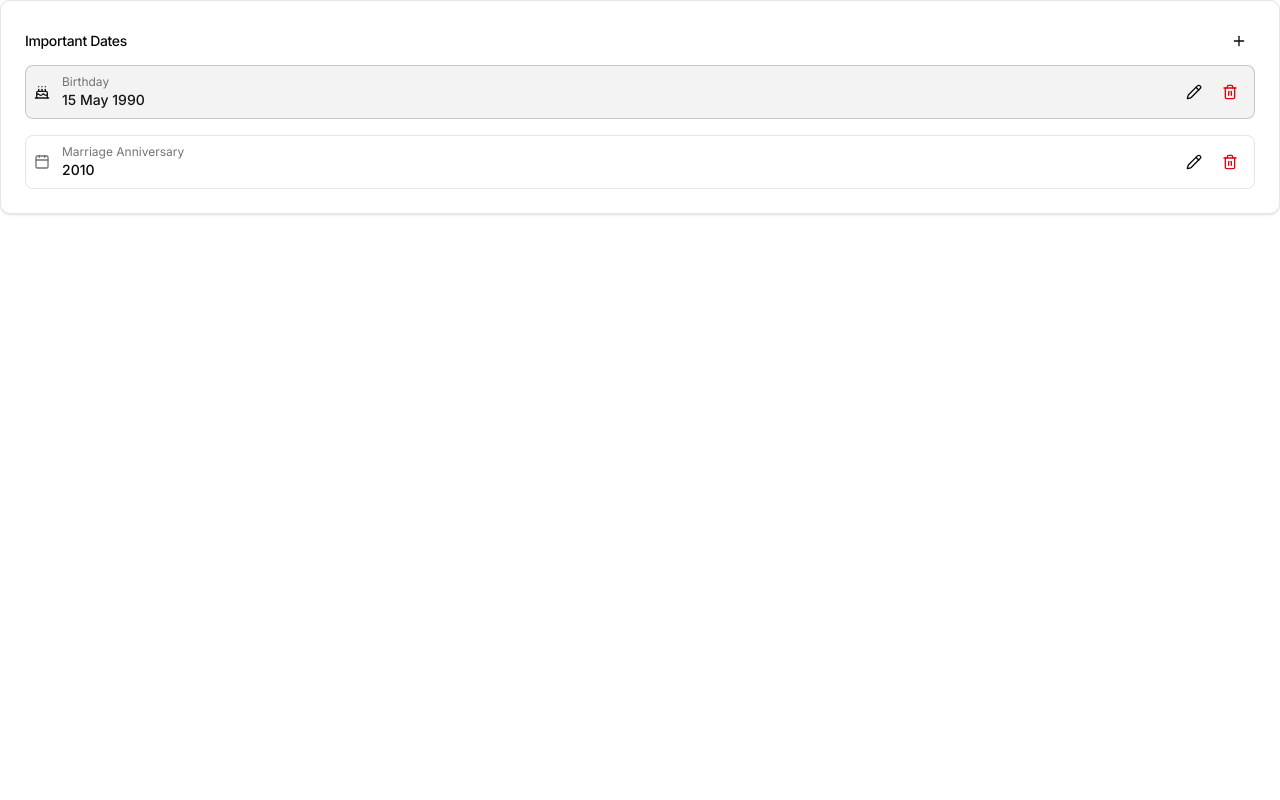
ImportantDatesList › closes the delete confirmation when the delete is refused as a conflict
Click the button named "Delete birthday".
click(1230, 92)  # box left=1214, top=76, right=1246, bottom=108
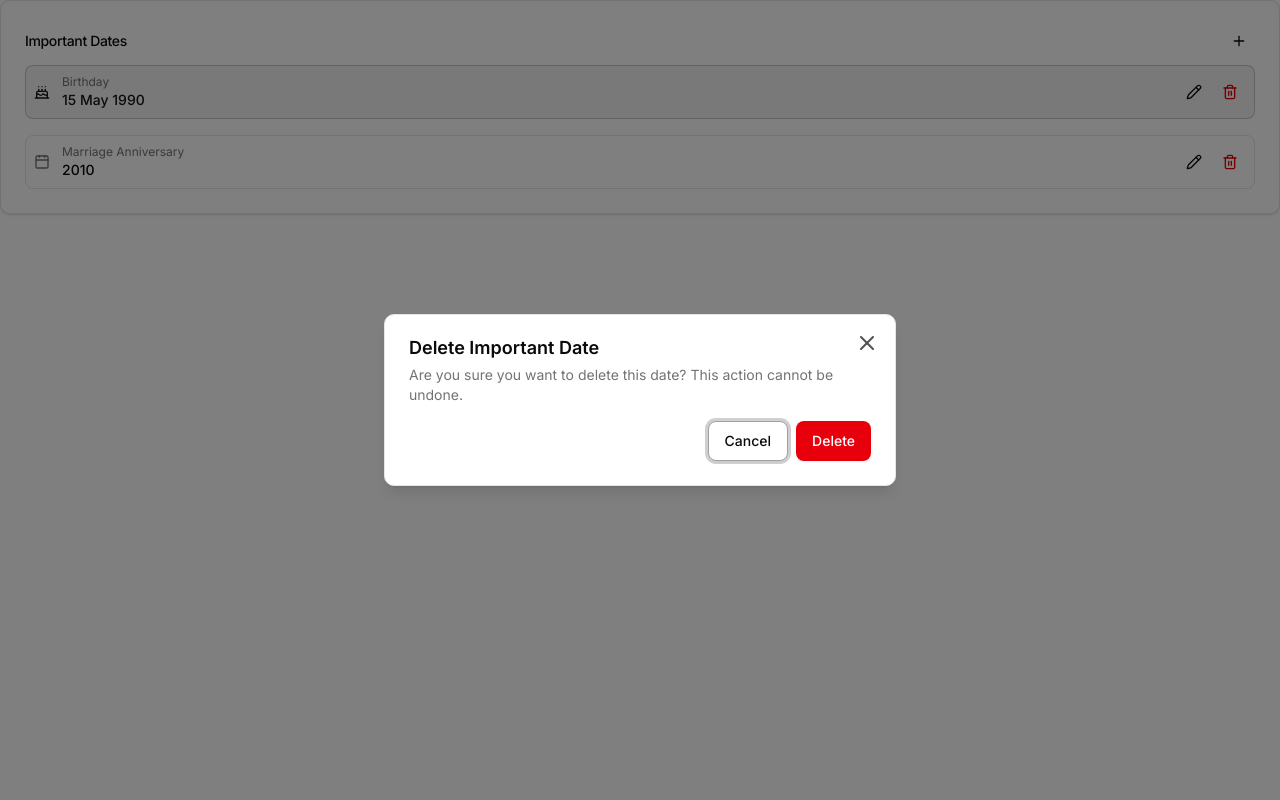
Expected: the dialog is shown, left=384, top=314, right=896, bottom=486
Click the button "Delete".
click(834, 441)  # box left=796, top=421, right=871, bottom=461
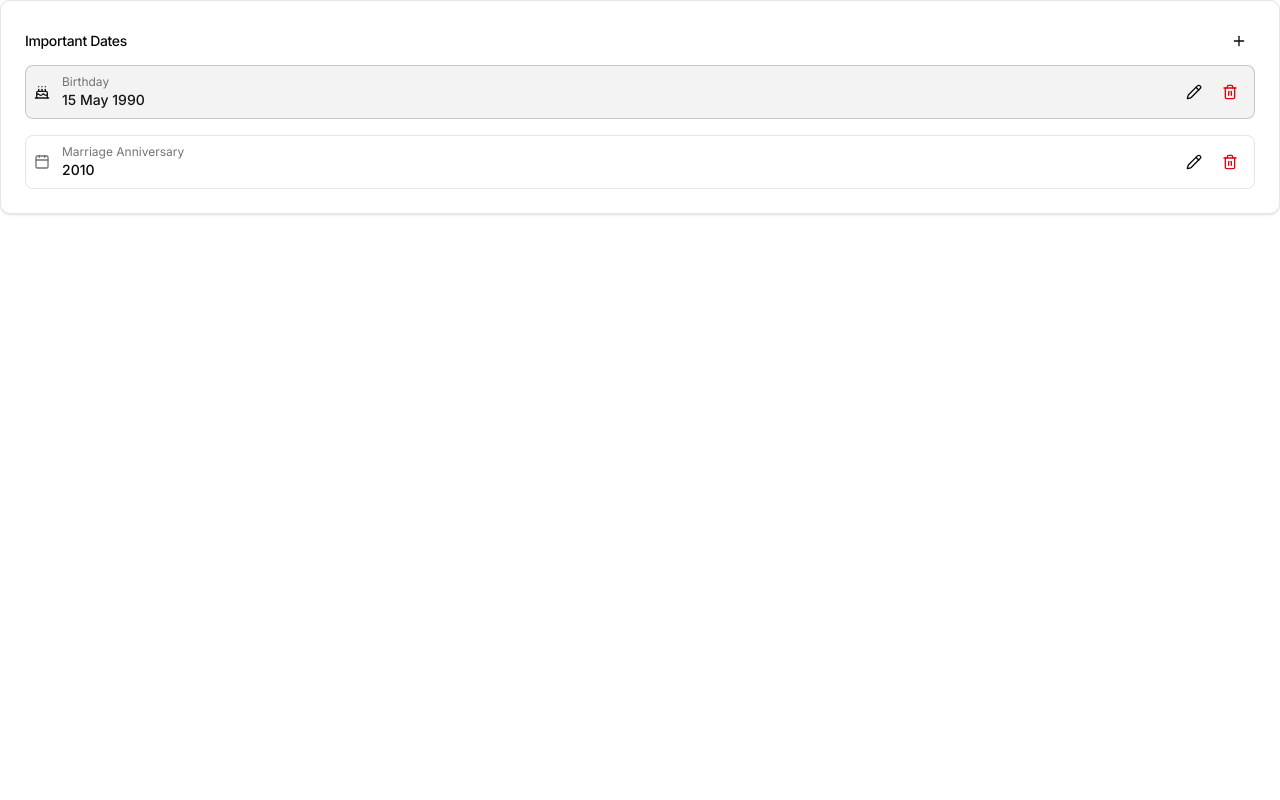
Expected: the dialog is gone
